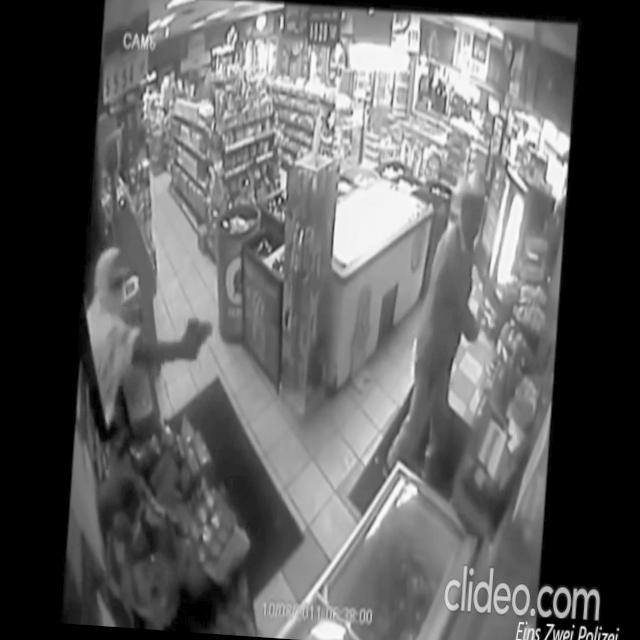gun: (183, 314, 214, 360)
person: (382, 161, 492, 501)
person with a gun: (72, 243, 220, 502)
